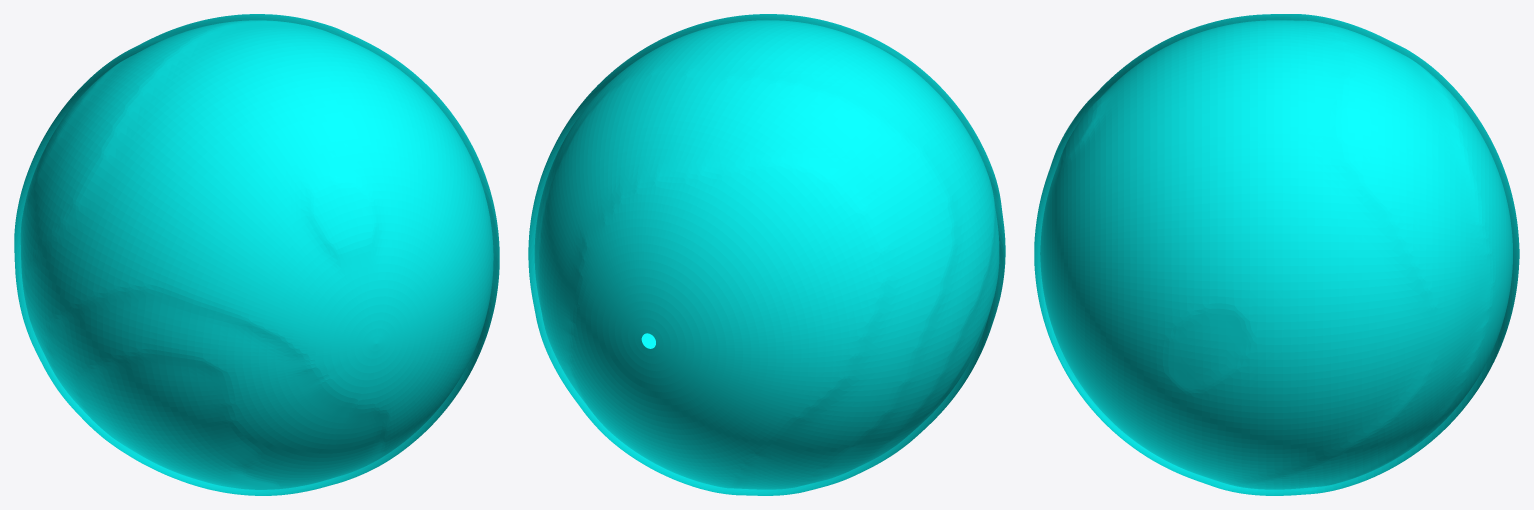
3 renders of one model, left to right at view 1: azimuth 30°, elevation 25°; view 2: azimuth 150°, elevation 25°; view 3: azimuth 270°, elevation 25°, orthographic.
Parts seen in each view (by area): view 1: Renderer Node; view 2: Renderer Node; view 3: Renderer Node.
Part boxes in pixels (x1=…): Renderer Node: x1=14, y1=14, x2=499, y2=495; Renderer Node: x1=528, y1=14, x2=1005, y2=495; Renderer Node: x1=1034, y1=14, x2=1519, y2=495.
Size of the model in its own units: 2.09e+16 by 2.09e+16 by 2.11e+16.
